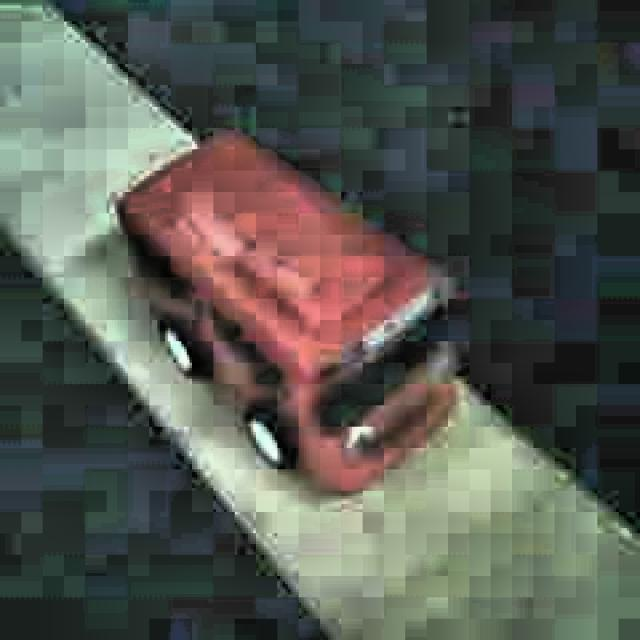bus: (119, 126, 455, 499)
